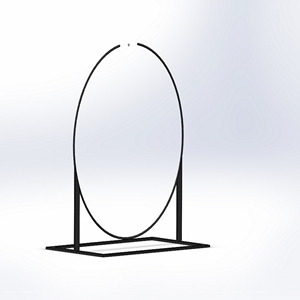circle: (43, 40, 212, 258)
